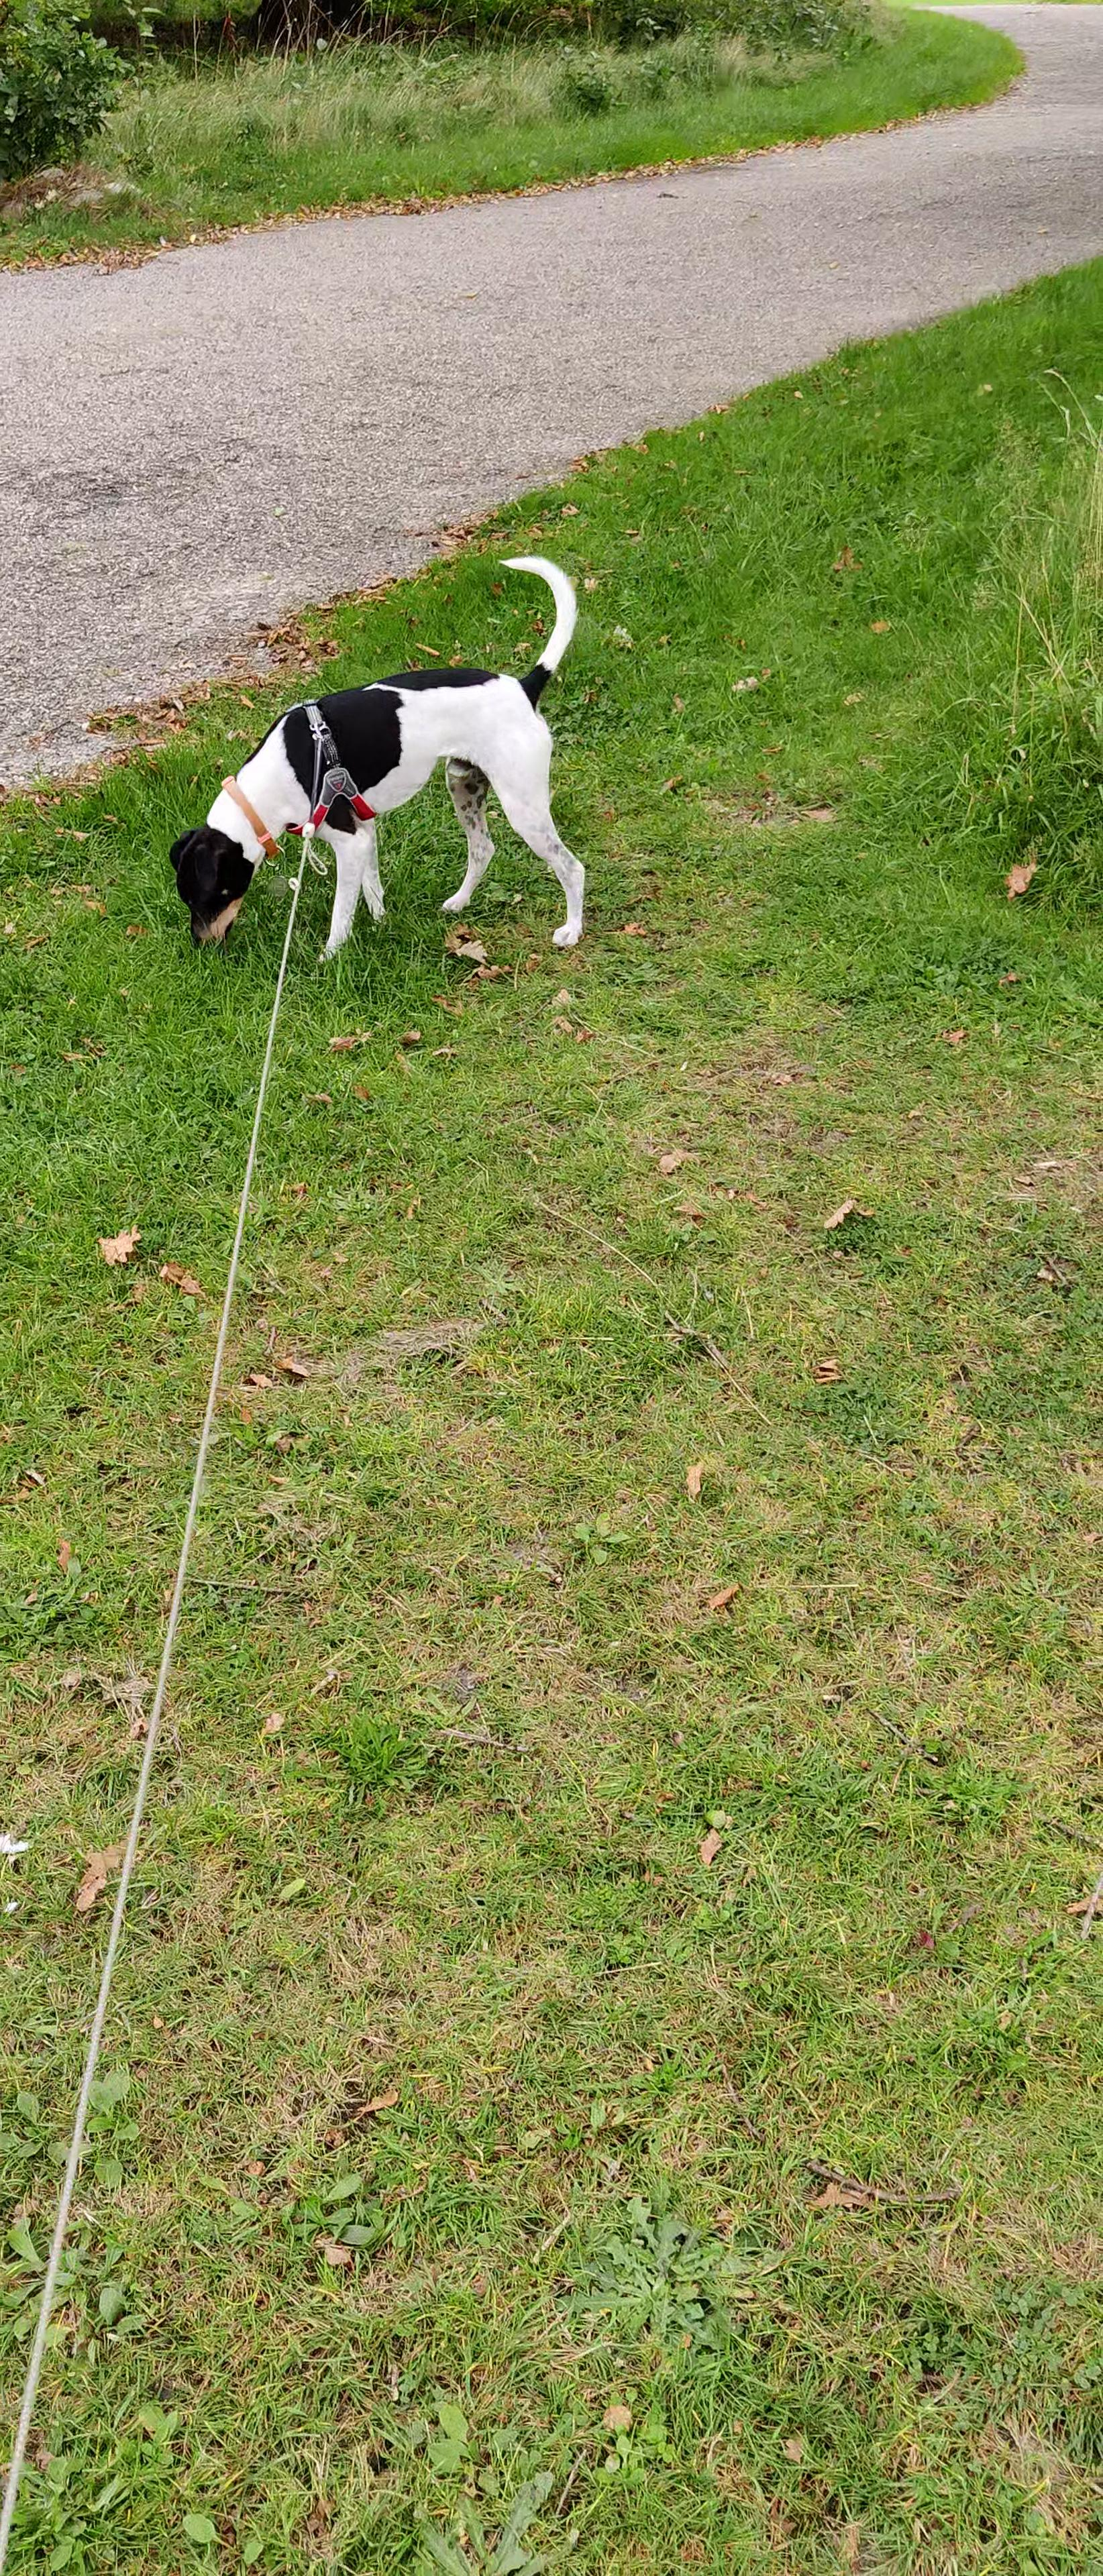Dog: (169, 549, 597, 956)
